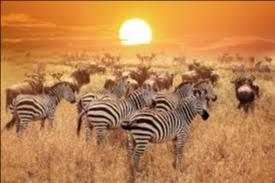Non_Gorille: (9, 37, 257, 162)
